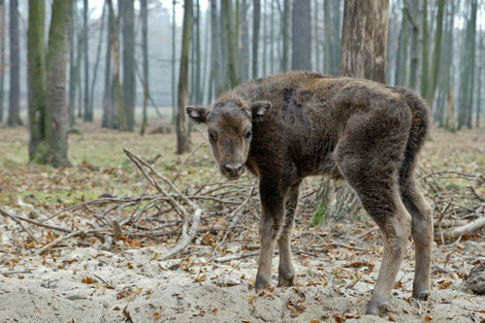zubr: (185, 55, 473, 315)
